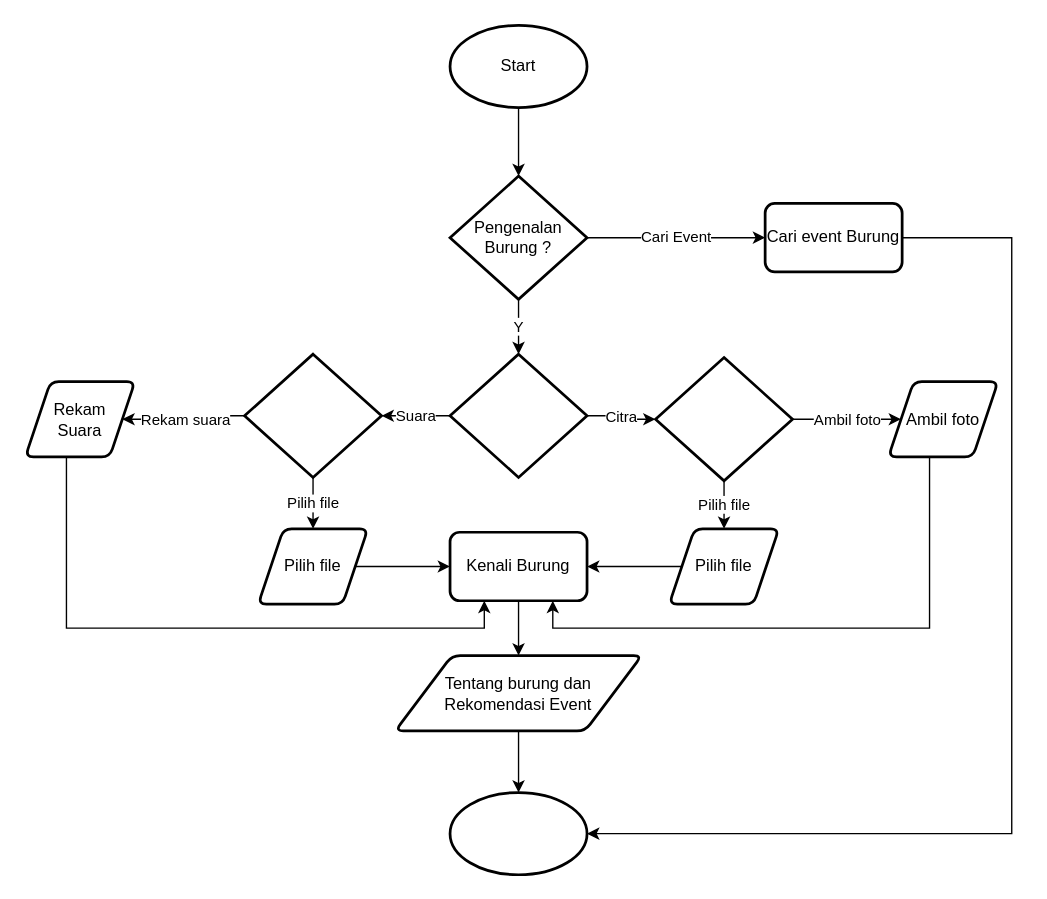
Image size: 1047x899. Some labels were removed from this diagram. The centre of each missing label's shape, as x and y in pixels:
"Ambil foto / Pilih file ?" belongs at (x=723, y=419).
"End" belongs at (x=518, y=832).
"Rekam / Pilih file ?" belongs at (x=312, y=415).
"Suara / Citra ?" belongs at (x=518, y=415).
